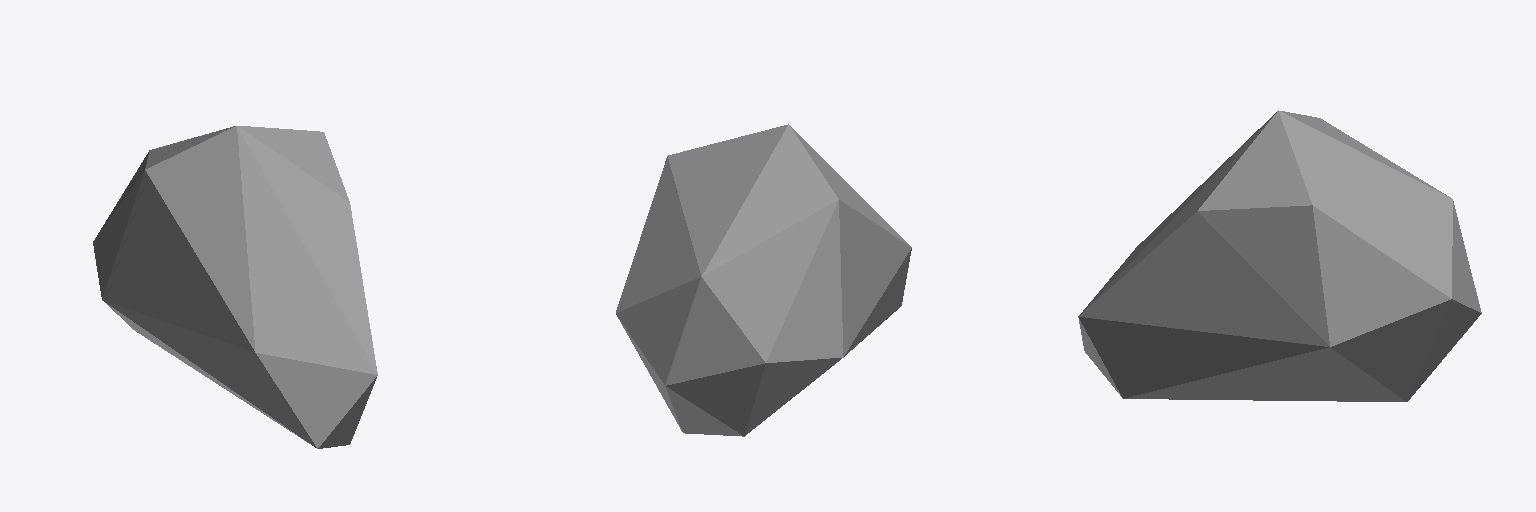
The model's file is Rock3.obj.
The picture shows the model from 3 angles: view 1: azimuth 30°, elevation 25°; view 2: azimuth 150°, elevation 25°; view 3: azimuth 270°, elevation 25°; orthographic projection.
Parts seen in each view (by area): view 1: Icosphere; view 2: Icosphere; view 3: Icosphere.
Boxes of the visible parts, x1,y1,x2,y2 form: Icosphere: [93, 126, 377, 448]; Icosphere: [616, 124, 911, 436]; Icosphere: [1078, 110, 1481, 401].
Bounding box in the file's own units: 1.75 × 1.98 × 2.66.